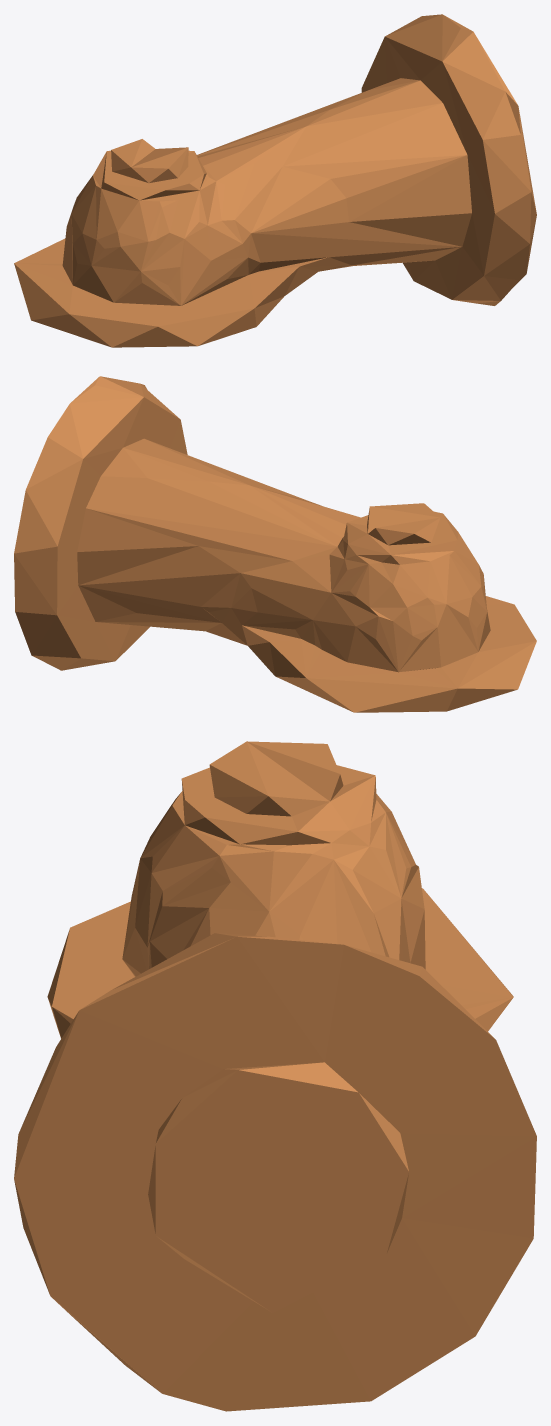
File: like_kr240r2900_link_4.glb
3 renders of one model, top to bottom at view 1: azimuth 30°, elevation 25°; view 2: azimuth 150°, elevation 25°; view 3: azimuth 270°, elevation 25°, orthographic. The views are drawn at different scales.
Parts seen in each view (by area): view 1: world; view 2: world; view 3: world.
Part boxes in pixels (box(x1,y1,x2,y2)): world: box(14, 14, 536, 347); world: box(14, 376, 536, 712); world: box(14, 741, 536, 1411).
Size of the model in its own units: 0.4434 by 0.259 by 0.2583.
